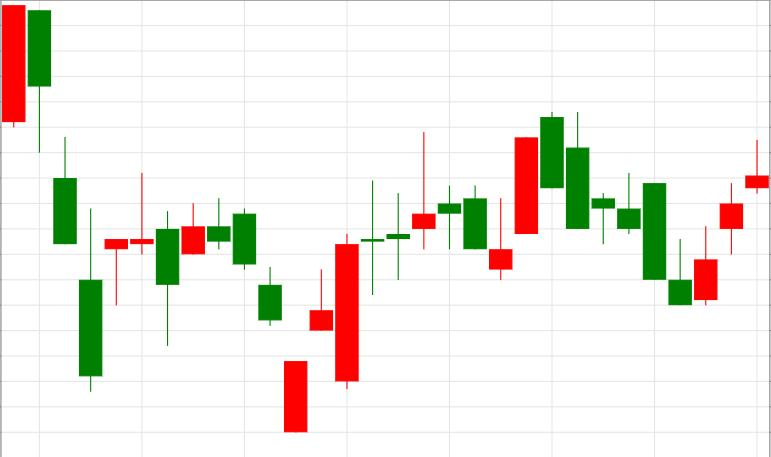inverse_hammer_rise: (541, 112, 691, 306)
